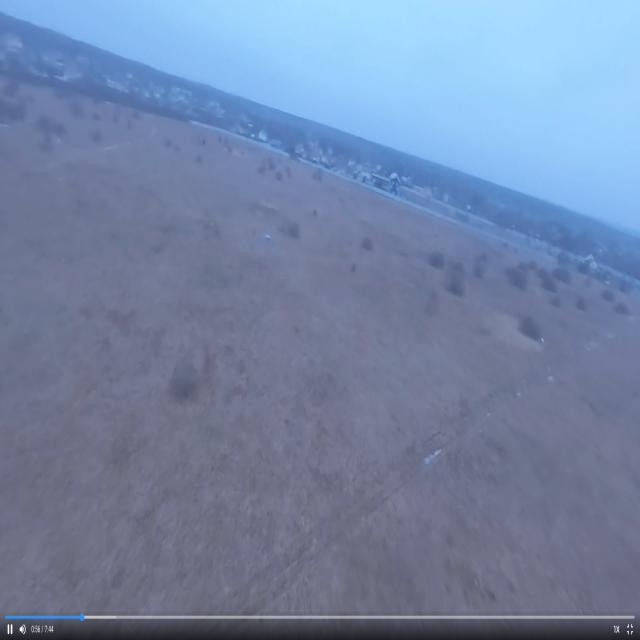planedrone: (255, 222, 280, 255)
